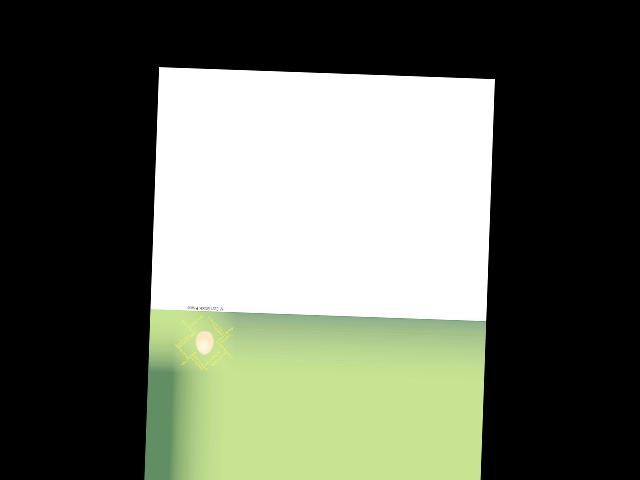egg: (195, 330, 213, 354)
